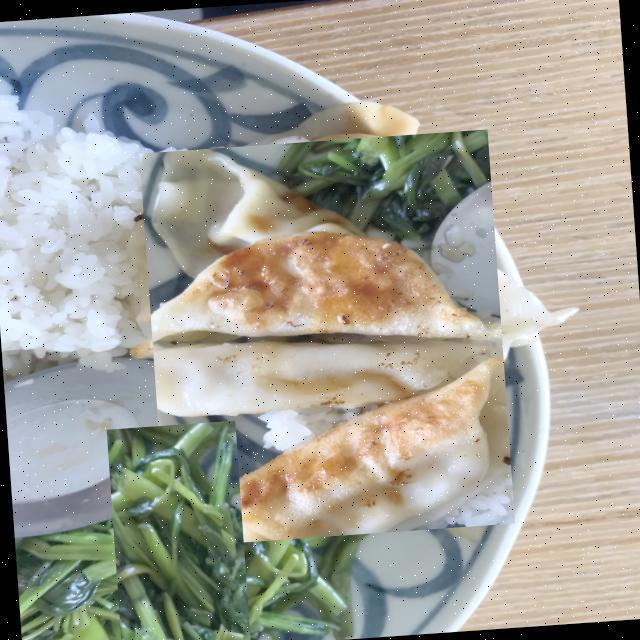Rice: (0, 130, 148, 378)
fried_dumplings: (138, 129, 515, 548)
water_spinach: (60, 465, 297, 640)
